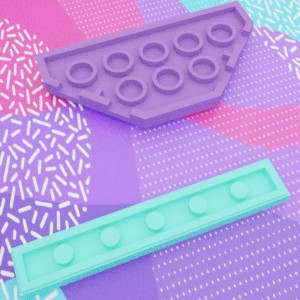lego: (10, 158, 290, 300), (34, 0, 254, 128)
